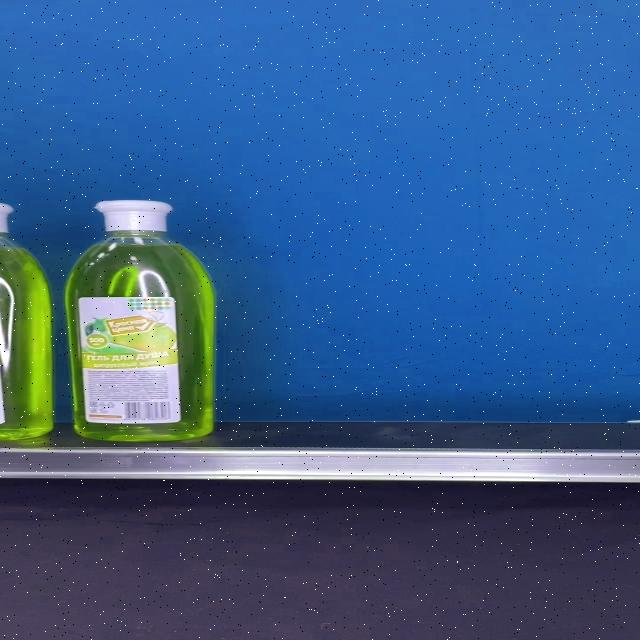Bottle: (65, 200, 214, 441)
Cap: (94, 200, 173, 232)
